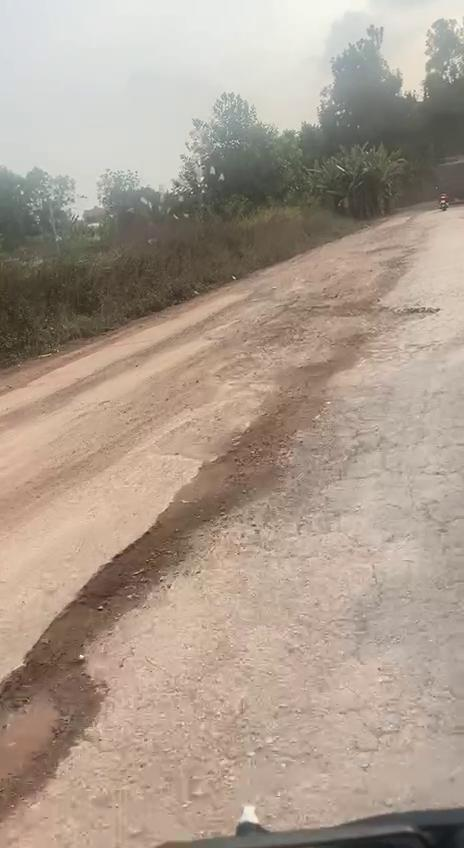pothole: (56, 474, 253, 649), (208, 358, 360, 490), (0, 645, 121, 810)
